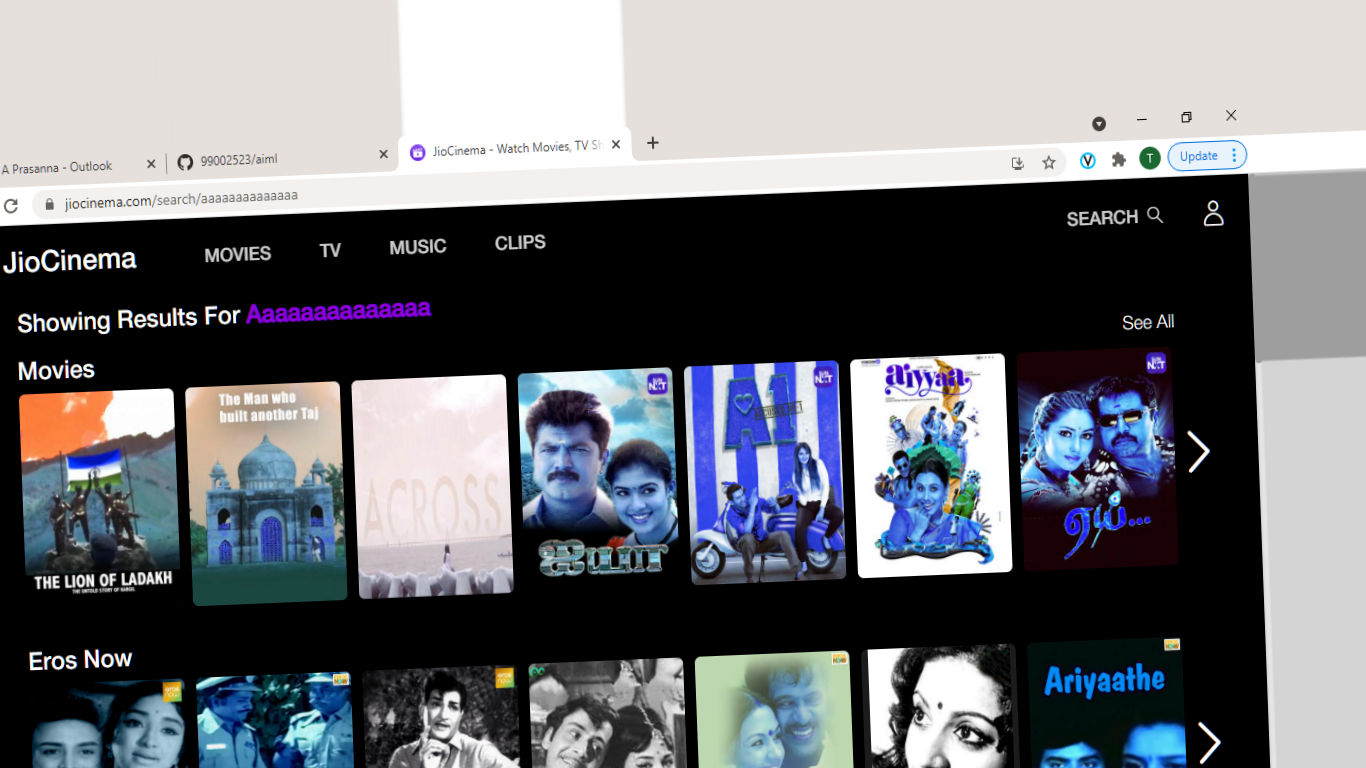noresultsfound: (15, 298, 461, 337)
profileicon: (1196, 188, 1237, 238)
searchicon: (1055, 201, 1177, 244)
